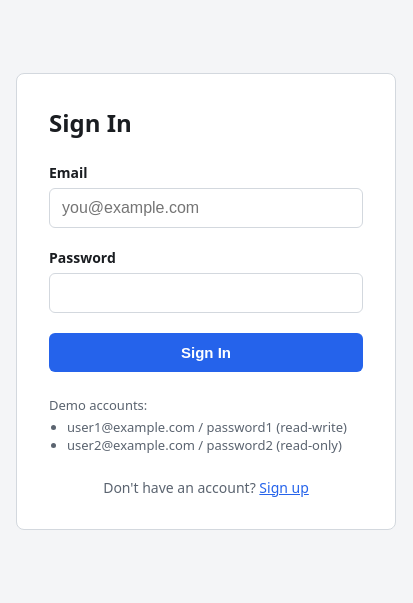
Test: the whole app › reaches the sign up screen from the login screen
What coordinates should you click on to do the following:
click the link "Sign up"
I would click on:
 (284, 487)
Its box is [259,478,309,496].
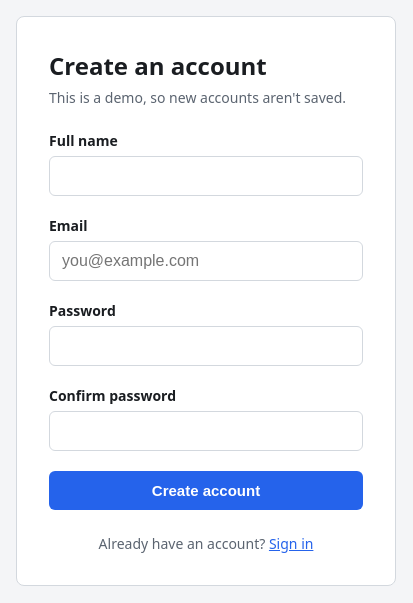
Check: the heading "Create an account" is shown, box [49,49,267,82]
